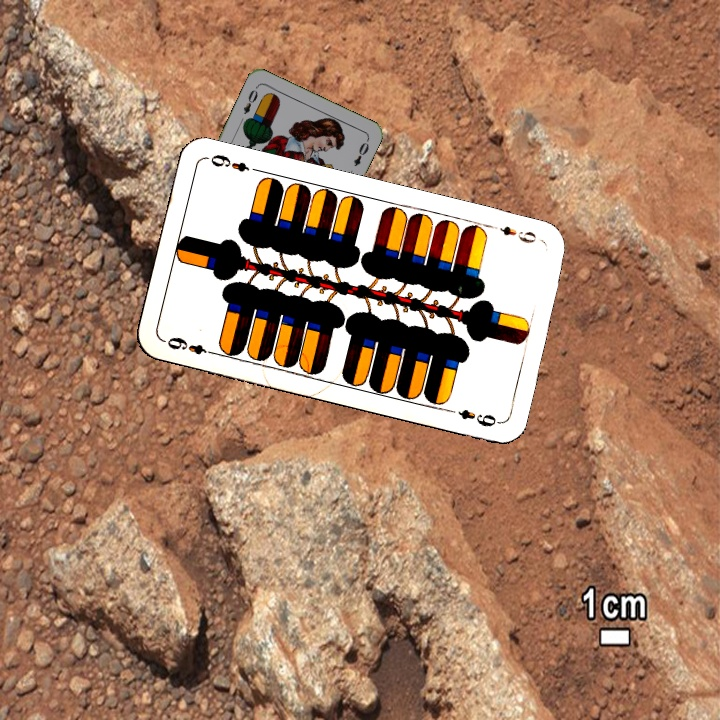E9: (160, 333, 218, 358), (486, 220, 539, 246)
EO: (239, 82, 261, 117)
